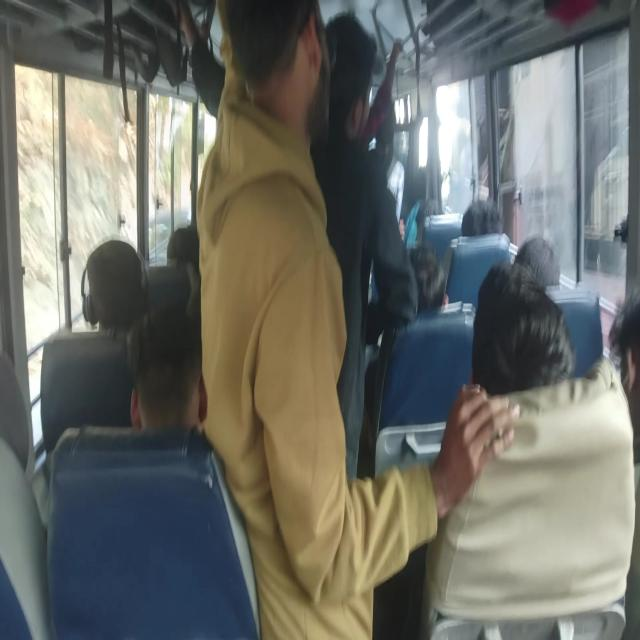person: (220, 6, 331, 170), (482, 277, 562, 428), (296, 0, 378, 139), (133, 296, 193, 437), (0, 336, 38, 519), (90, 226, 136, 335), (394, 243, 446, 337), (611, 324, 640, 466), (515, 246, 554, 315), (466, 185, 500, 245), (165, 222, 202, 275)
